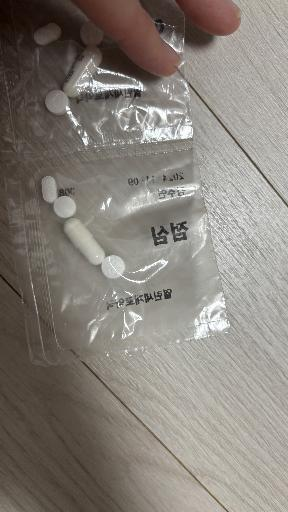Bacilliformis: (63, 218, 105, 265)
Lapabutine: (63, 45, 102, 98), (45, 90, 69, 115), (101, 255, 125, 278)
Tiparone: (53, 196, 76, 219)
gamod: (42, 176, 57, 203)
vinyl: (10, 148, 229, 364)
